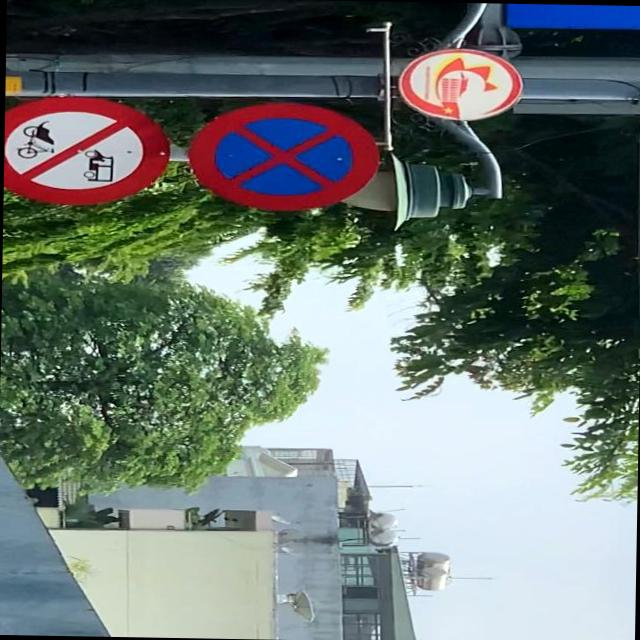P-130: (190, 100, 380, 208)
